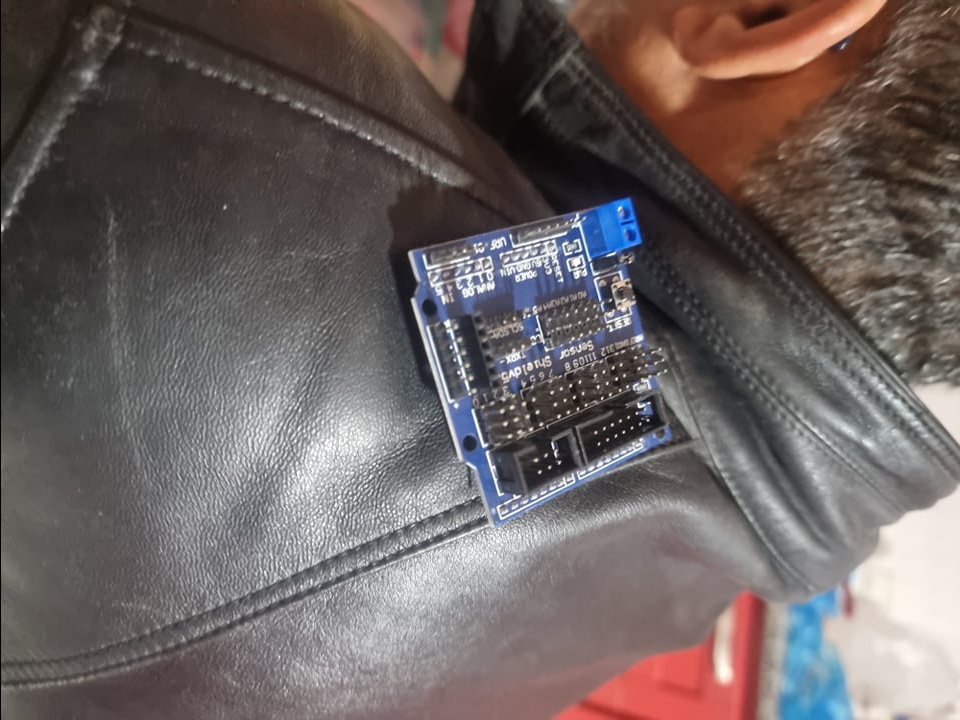5V EXPANSION: (400, 196, 673, 525)
